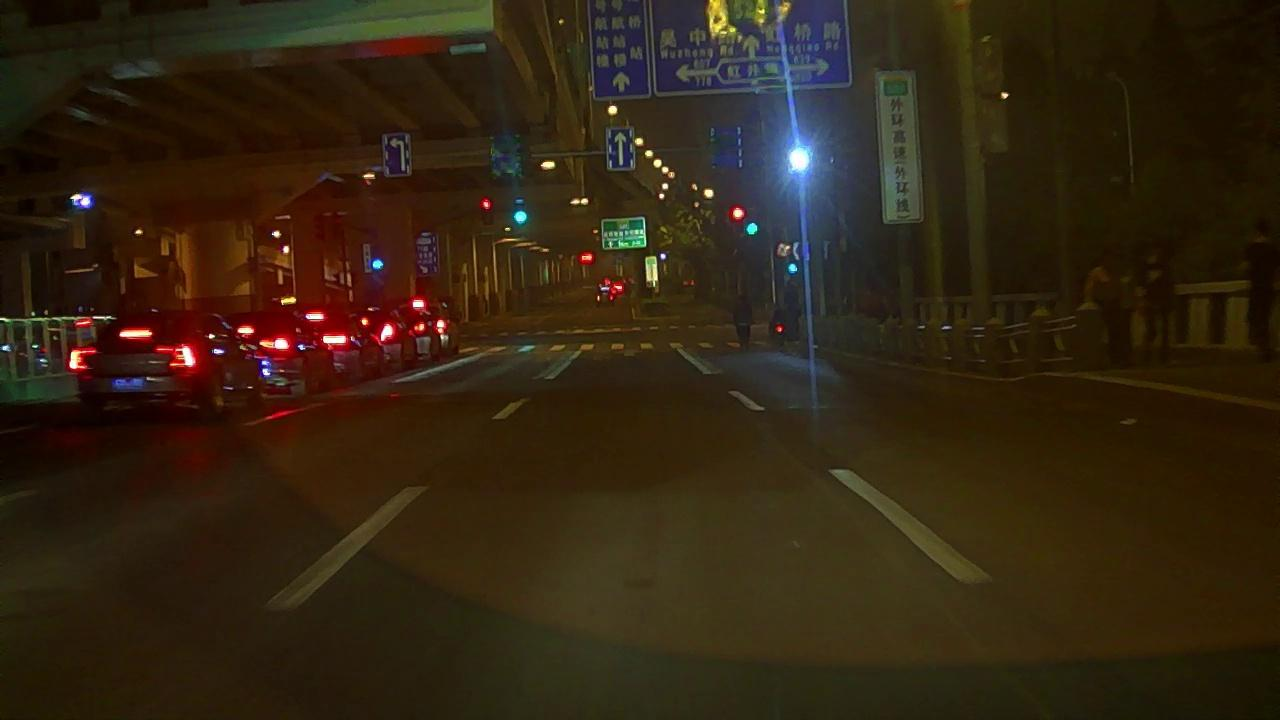traffic_light: (516, 210, 527, 222), (746, 224, 757, 236), (734, 207, 743, 220), (482, 201, 491, 208)
